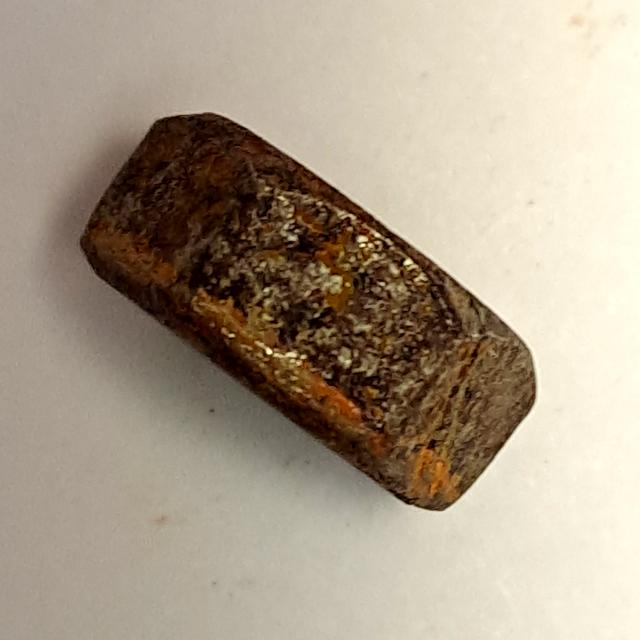Rust: (62, 98, 553, 531)
